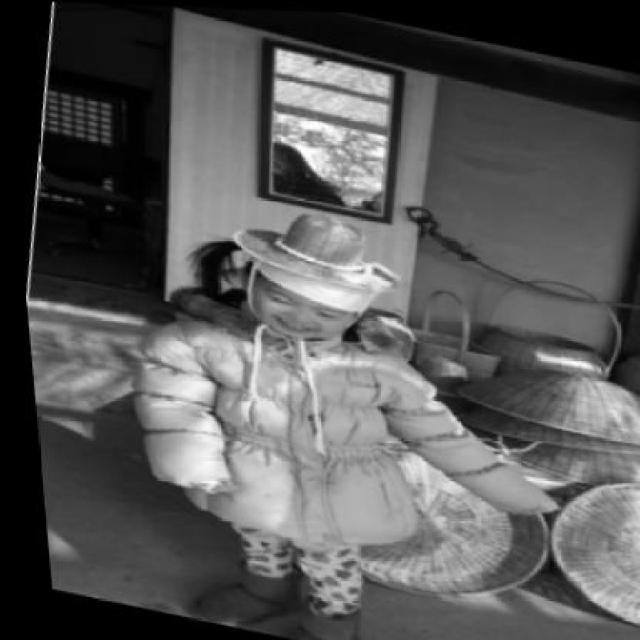hat: (225, 197, 397, 317)
